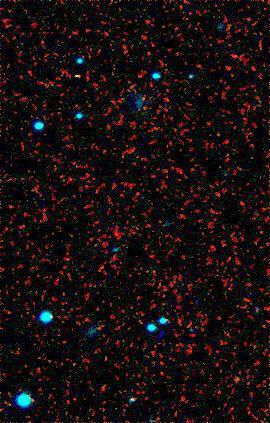star: (64, 60, 94, 90)
